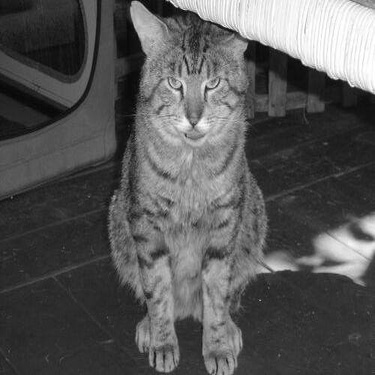cat: (109, 1, 266, 370)
